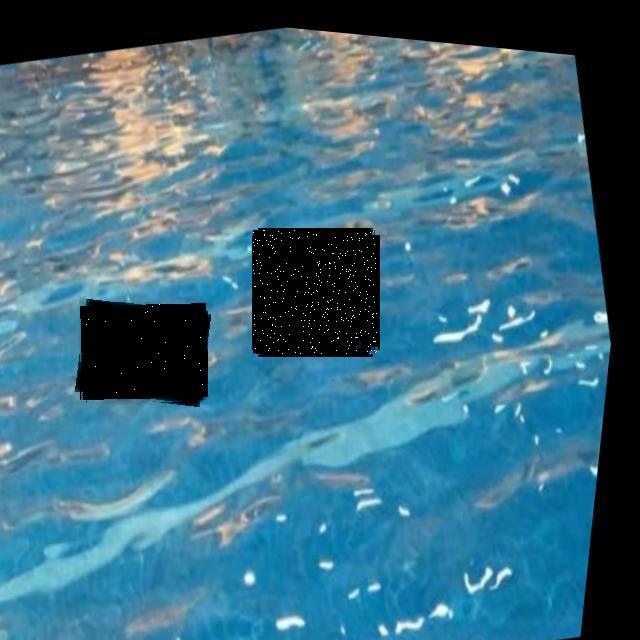swimming: (254, 230, 378, 354), (78, 302, 208, 404)
